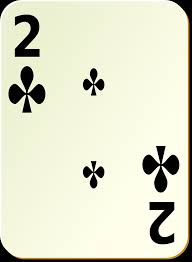two of clubs: (2, 1, 188, 258)
